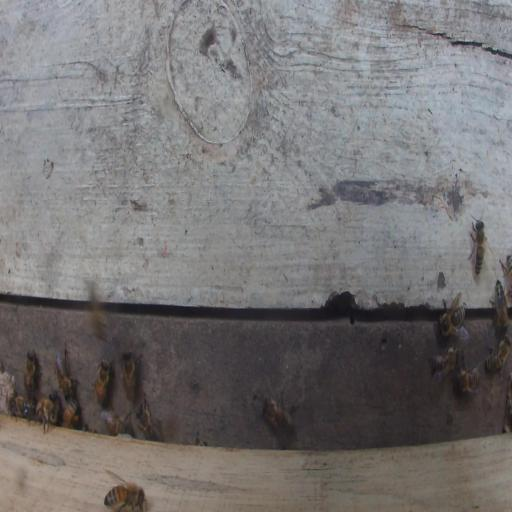bee: (431, 348, 460, 387), (103, 484, 146, 509), (264, 398, 293, 435), (137, 401, 163, 442), (437, 305, 466, 341), (485, 334, 510, 371), (494, 279, 509, 334), (56, 354, 73, 399), (453, 368, 480, 395), (95, 359, 110, 406), (104, 411, 133, 435), (123, 352, 136, 403), (474, 220, 485, 276), (9, 396, 35, 419), (23, 352, 35, 401), (35, 396, 54, 423), (63, 397, 79, 428), (51, 393, 62, 426), (505, 253, 512, 292)
